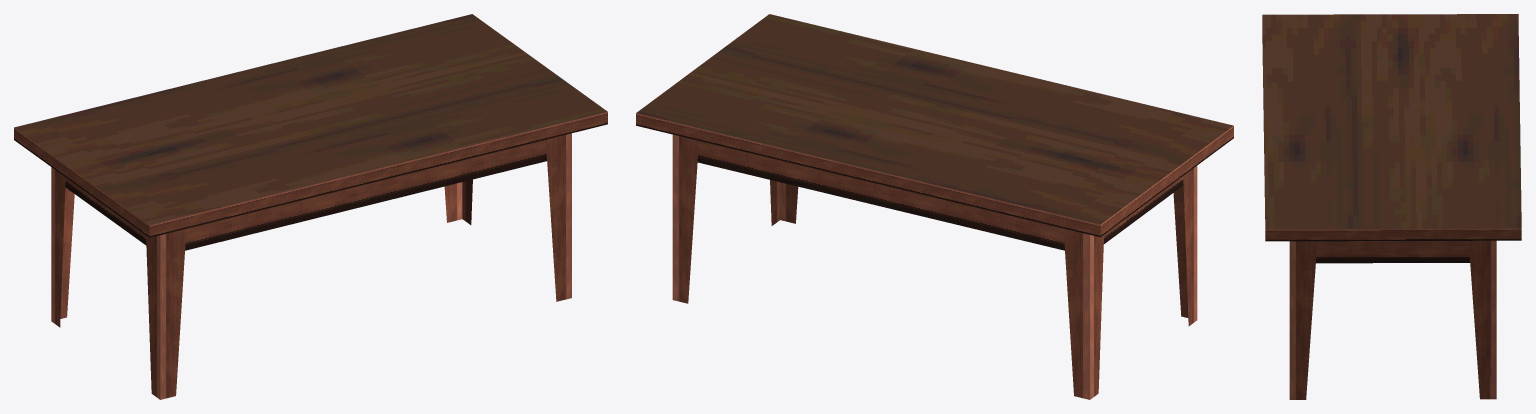
The model's file is primary_092.glb.
3 views of the same model, side by side, from view 1: azimuth 30°, elevation 25°; view 2: azimuth 150°, elevation 25°; view 3: azimuth 270°, elevation 25° (orthographic). The views are drawn at different scales.
Visible parts, largest first — view 1: Object; view 2: Object; view 3: Object.
Part boxes in pixels (x1=…): Object: x1=14, y1=14, x2=607, y2=399; Object: x1=636, y1=14, x2=1233, y2=399; Object: x1=1262, y1=14, x2=1521, y2=399.
Size of the model in its own units: 2.72 by 1.07 by 1.39.
Materials: 4 (4 with a texture image).
